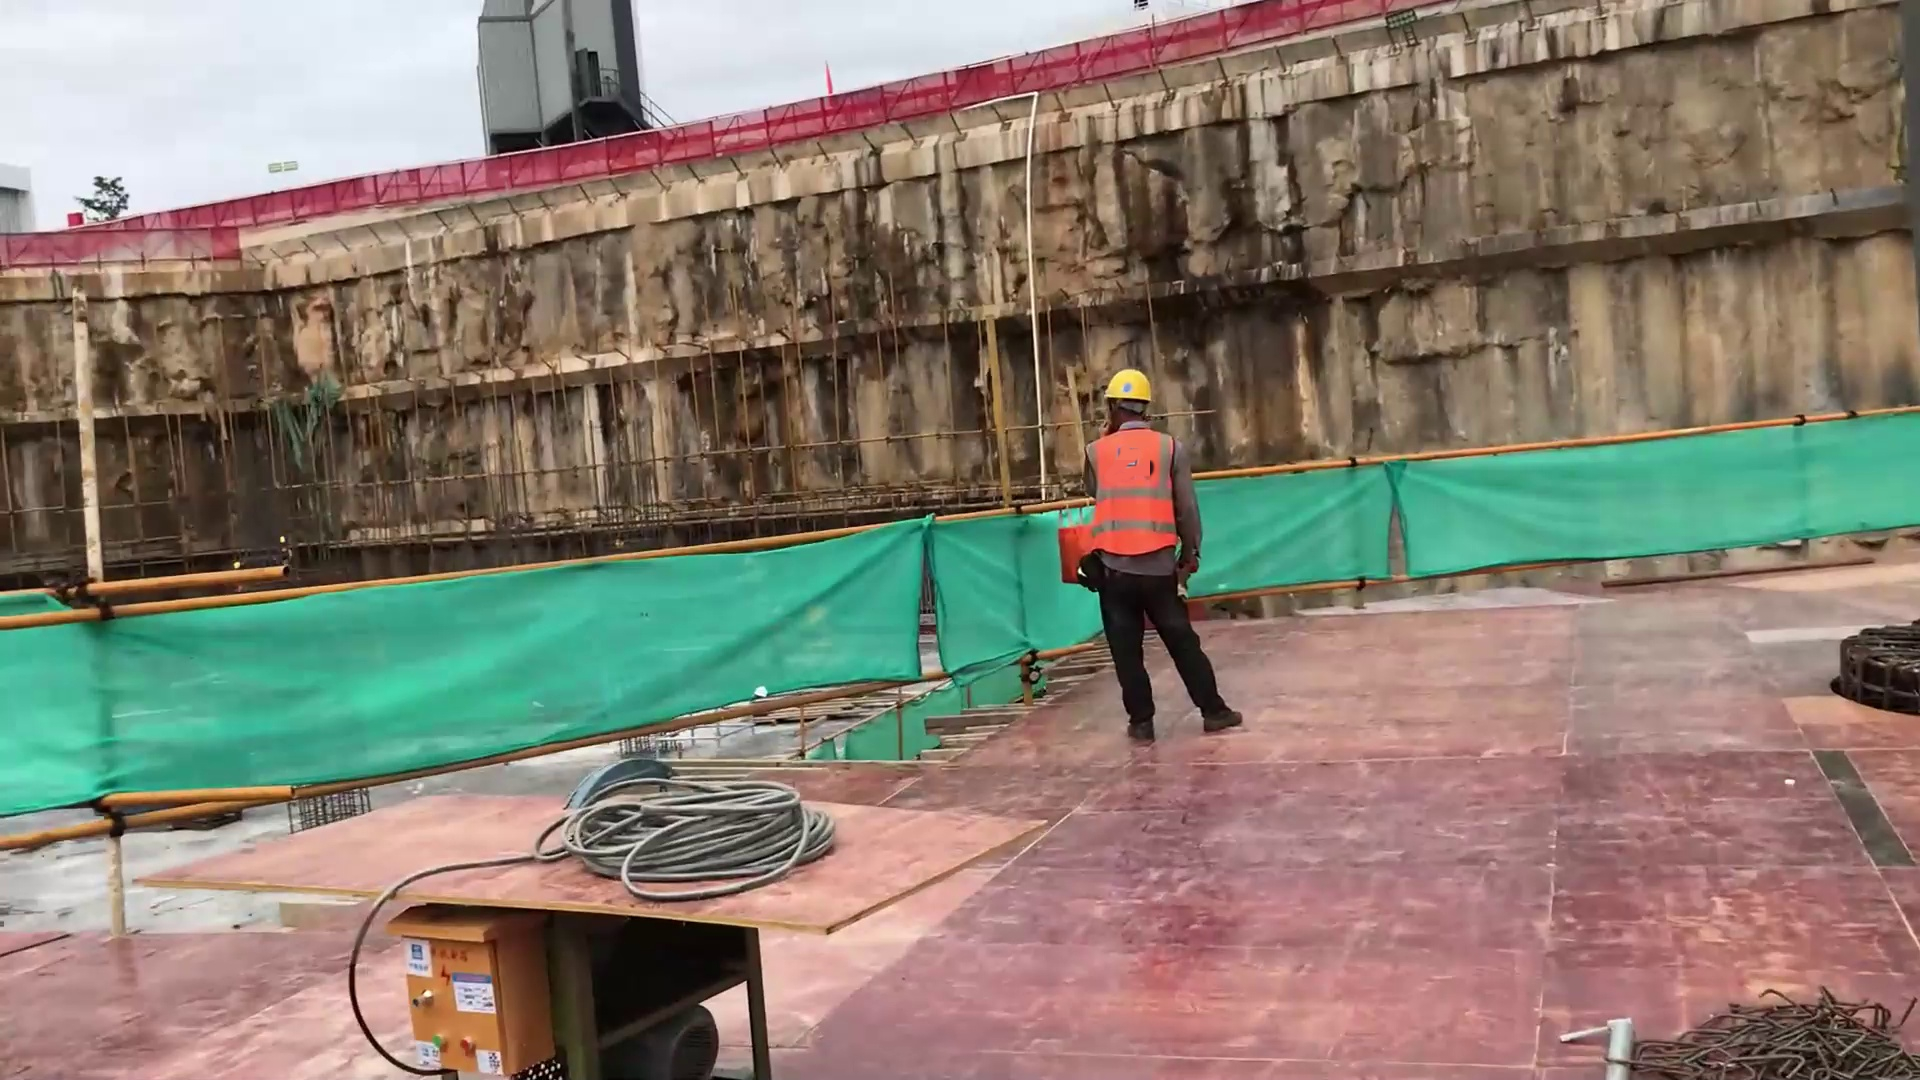cutter: (147, 749, 1071, 1080)
ebox: (371, 896, 591, 1080)
fence: (6, 224, 229, 271)
helmet: (1102, 369, 1157, 404)
person: (1066, 360, 1259, 742)
vest: (1089, 423, 1182, 556)
